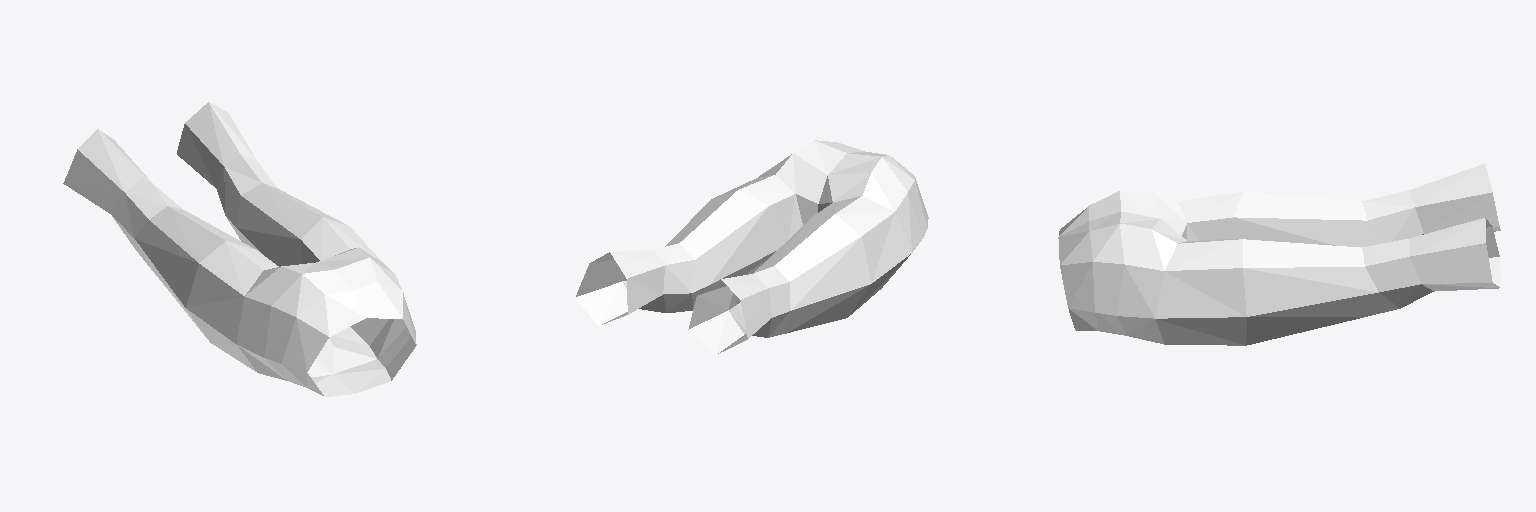
The model's file is soulhunter_trousers_female_27640.obj.
The picture shows the model from 3 angles: view 1: azimuth 30°, elevation 25°; view 2: azimuth 150°, elevation 25°; view 3: azimuth 270°, elevation 25°; orthographic projection.
Parts seen in each view (by area): view 1: soulhunter_trousers_female_27640; view 2: soulhunter_trousers_female_27640; view 3: soulhunter_trousers_female_27640.
Part boxes in pixels (bbox=[...]): soulhunter_trousers_female_27640: bbox=[63, 102, 416, 396]; soulhunter_trousers_female_27640: bbox=[575, 140, 928, 354]; soulhunter_trousers_female_27640: bbox=[1058, 164, 1501, 345].
Size of the model in its own units: 15.91 by 11.47 by 35.13.